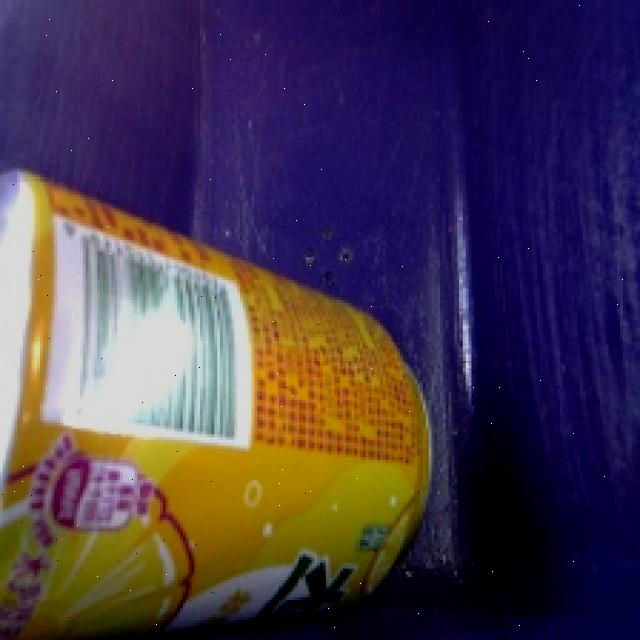metal: (0, 148, 460, 640)
